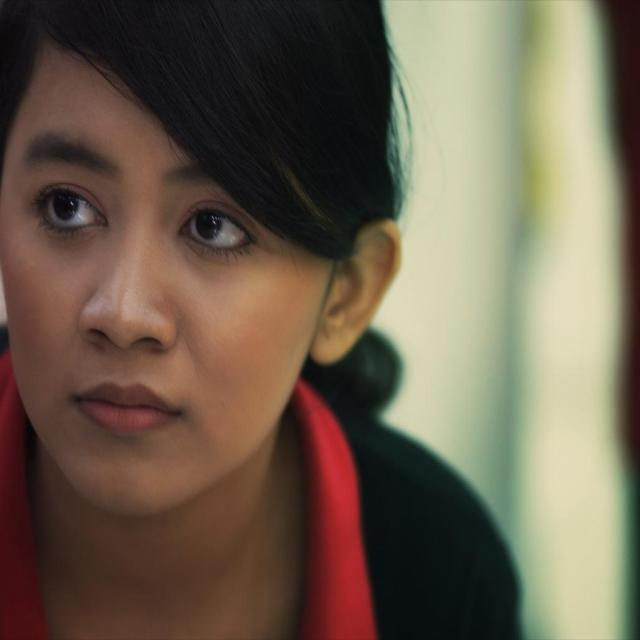no-glass: (29, 182, 256, 262)
